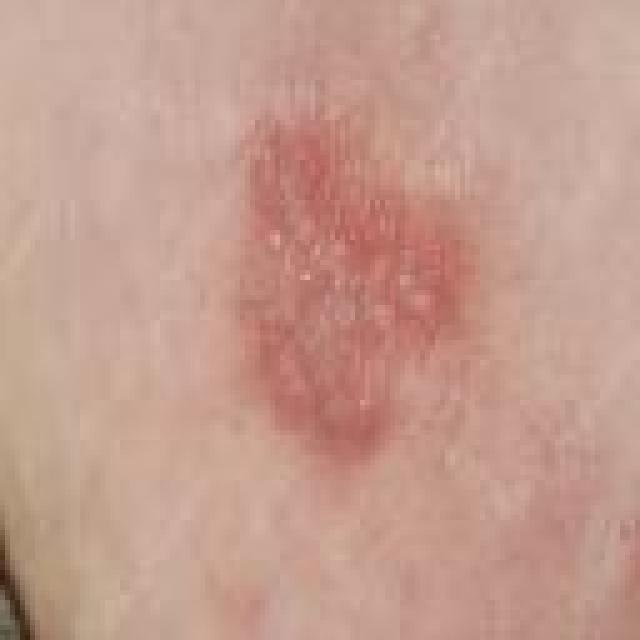Shingles: (231, 116, 453, 437)
